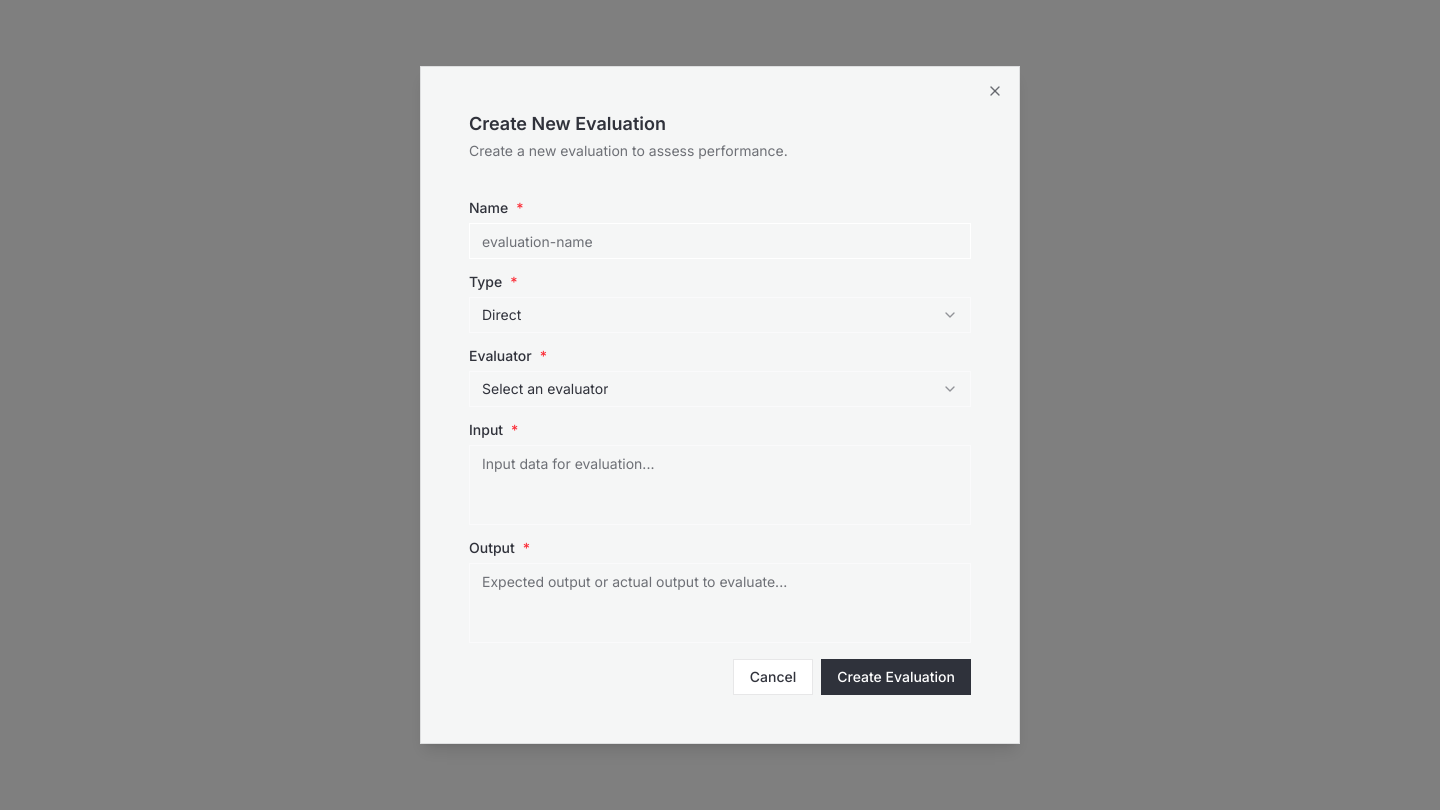
it: EvaluationEditor › validation › should show error for invalid name format
Type "Invalid Name!" into the field with placeholder "evaluation-name". click: (720, 241)
box: [469,223,971,259]
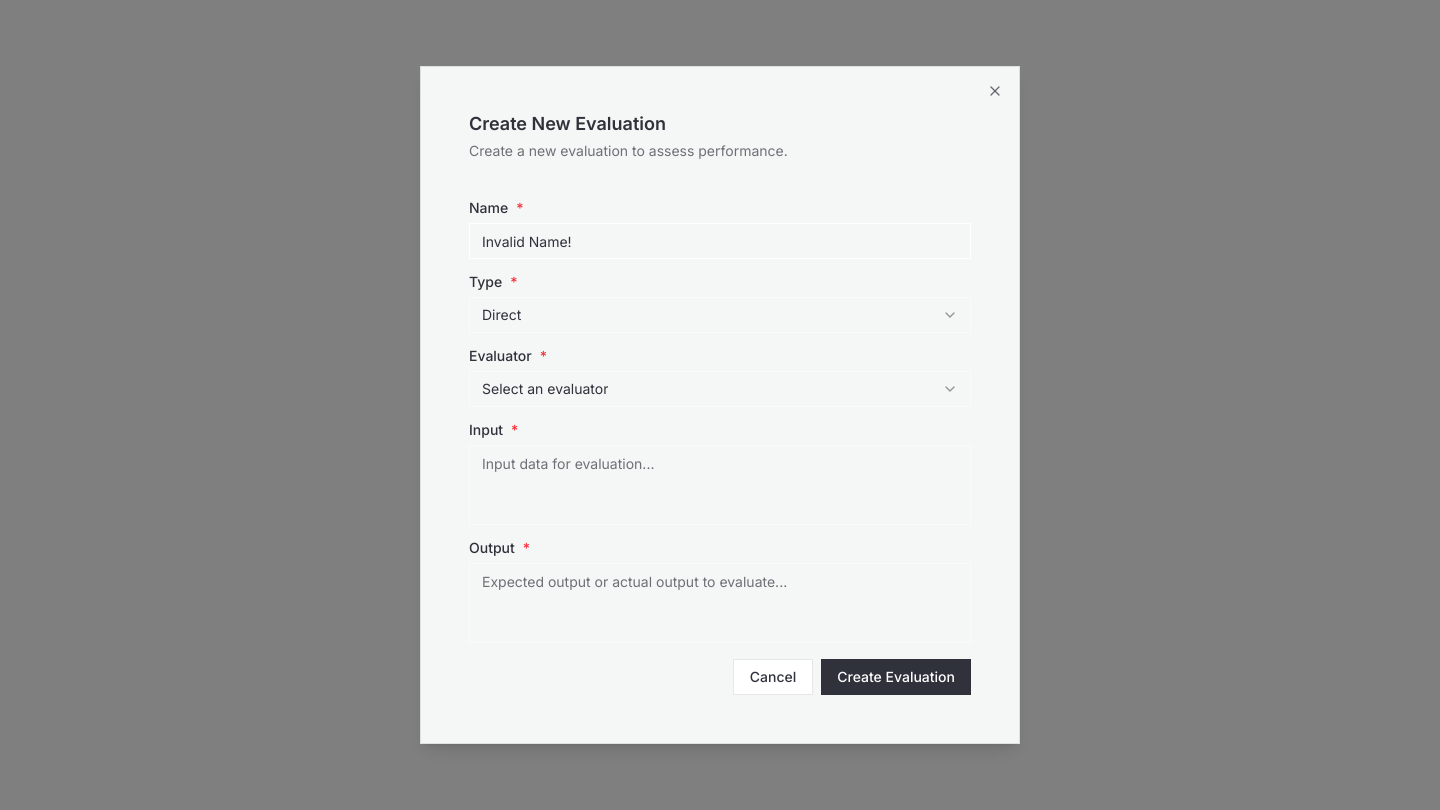
Click the button "Create Evaluation". click: (896, 677)
box: [821,659,971,695]
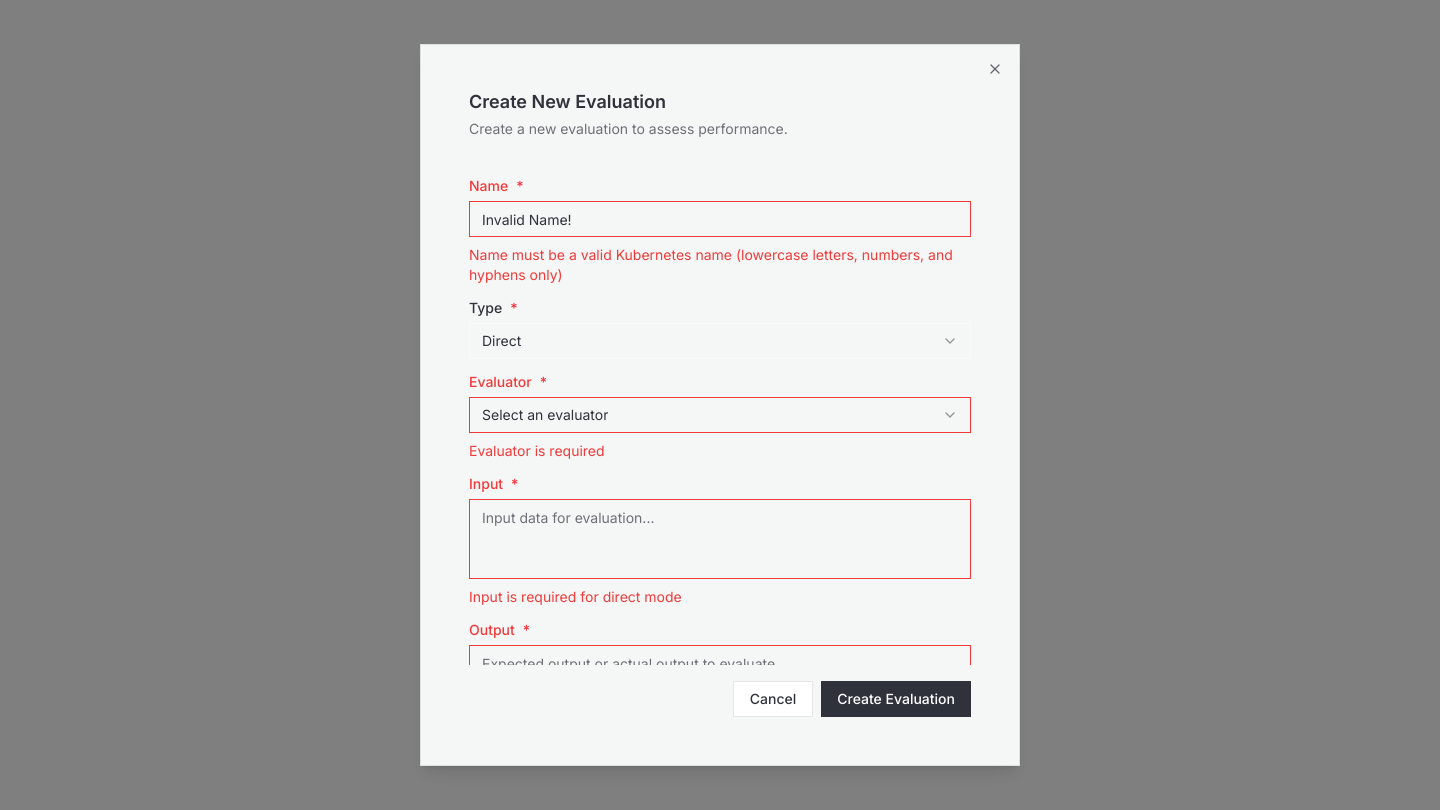
Expected: the text "Name must be a valid Kubernetes name" is shown, [469,246,953,283]
